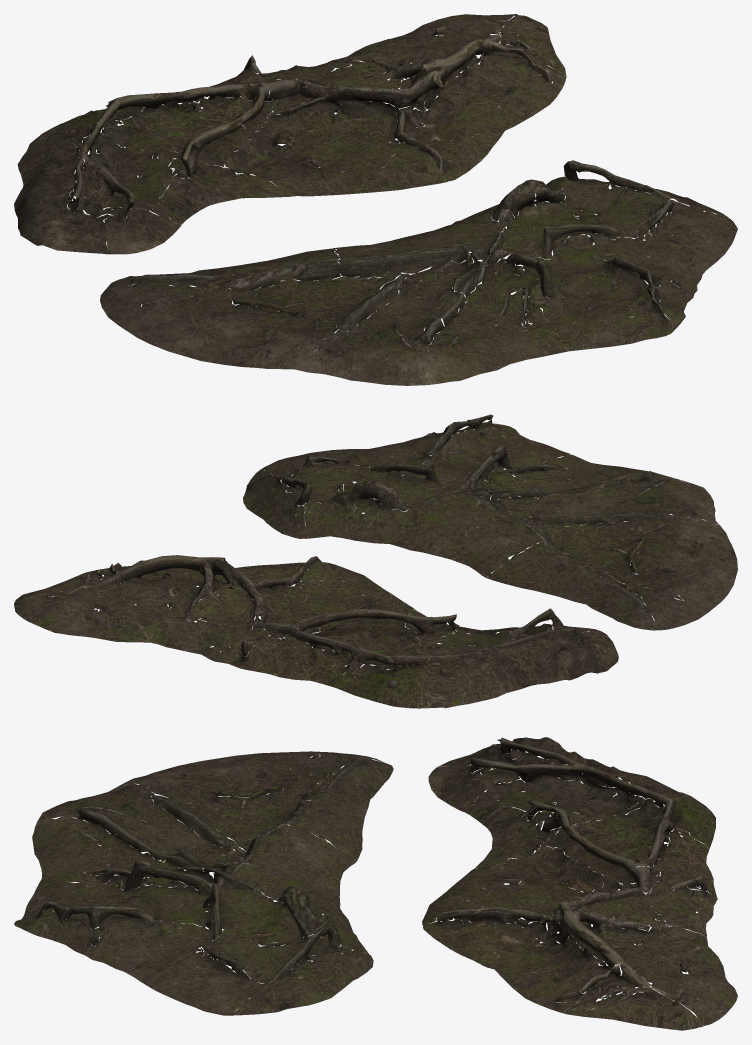
File: ph_pine_roots.glb
3 views of the same model, one above another, from view 1: azimuth 30°, elevation 25°; view 2: azimuth 150°, elevation 25°; view 3: azimuth 270°, elevation 25° (orthographic). The views are drawn at different scales.
Visible parts, largest first — view 1: ph_pine_roots; view 2: ph_pine_roots; view 3: ph_pine_roots.
Boxes of the visible parts, x1,y1,x2,y2 form: ph_pine_roots: [14, 14, 737, 385]; ph_pine_roots: [14, 414, 737, 708]; ph_pine_roots: [14, 737, 737, 1030].
Size of the model in its own units: 1.77 by 0.1538 by 1.89.
2 materials, 2 textured.
